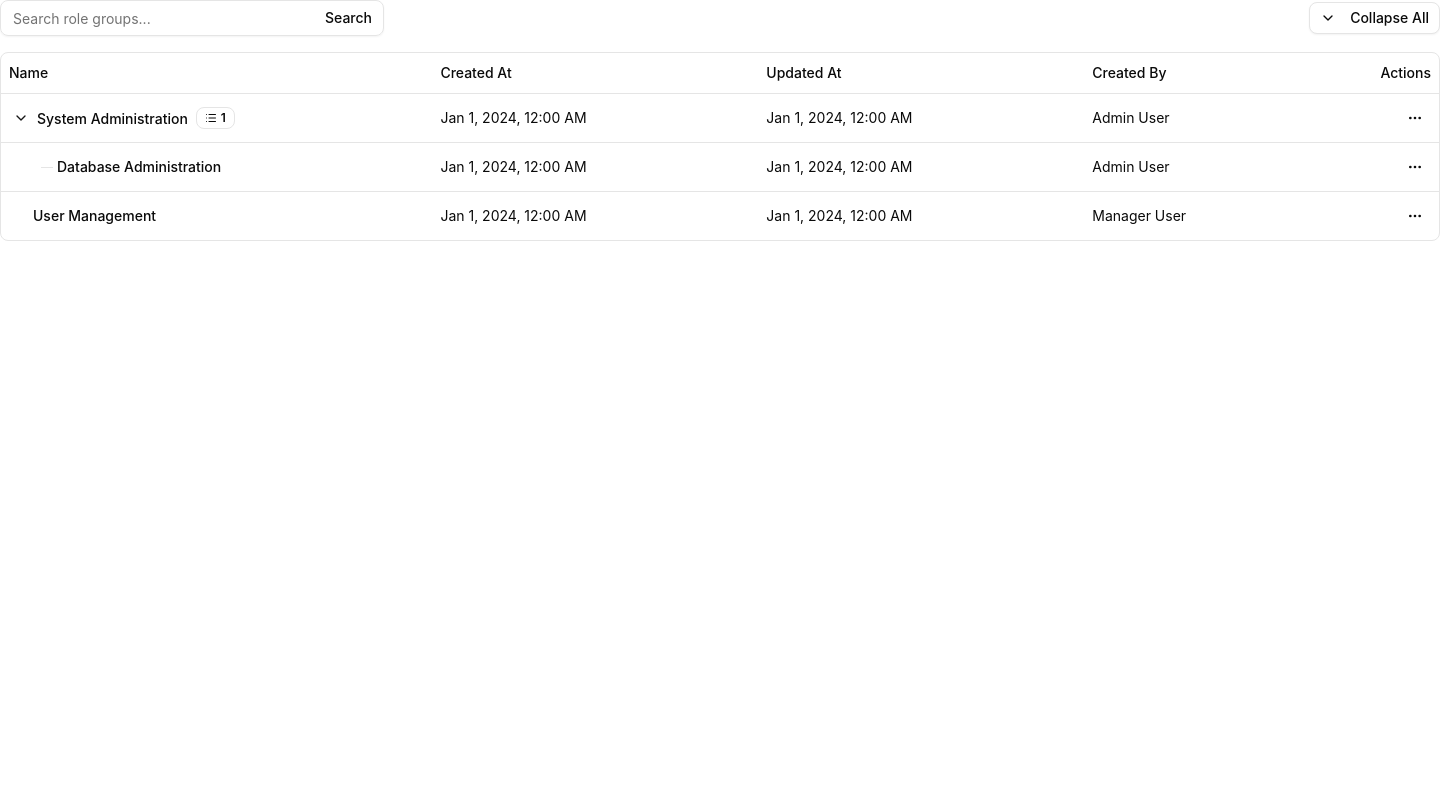
Test: RoleGroupList Component › Delete Functionality › opens delete confirmation dialog when delete action is clicked
The image size is (1440, 810).
Click the 1st button named "Open menu": (1415, 118) [1399,102,1431,134]
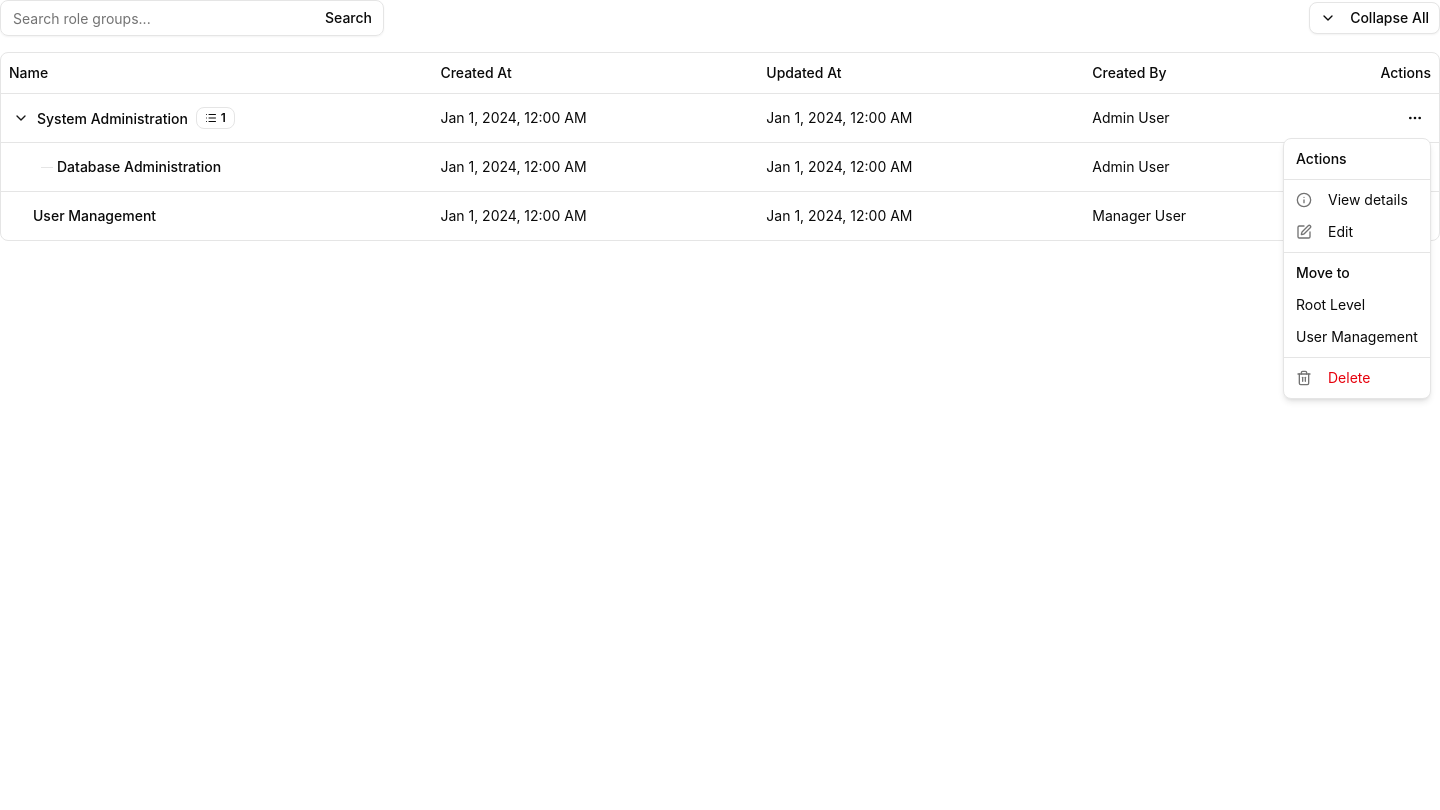
Note: Click delete option
Click the menu item "Delete": (1333, 378) [1296,369,1370,386]
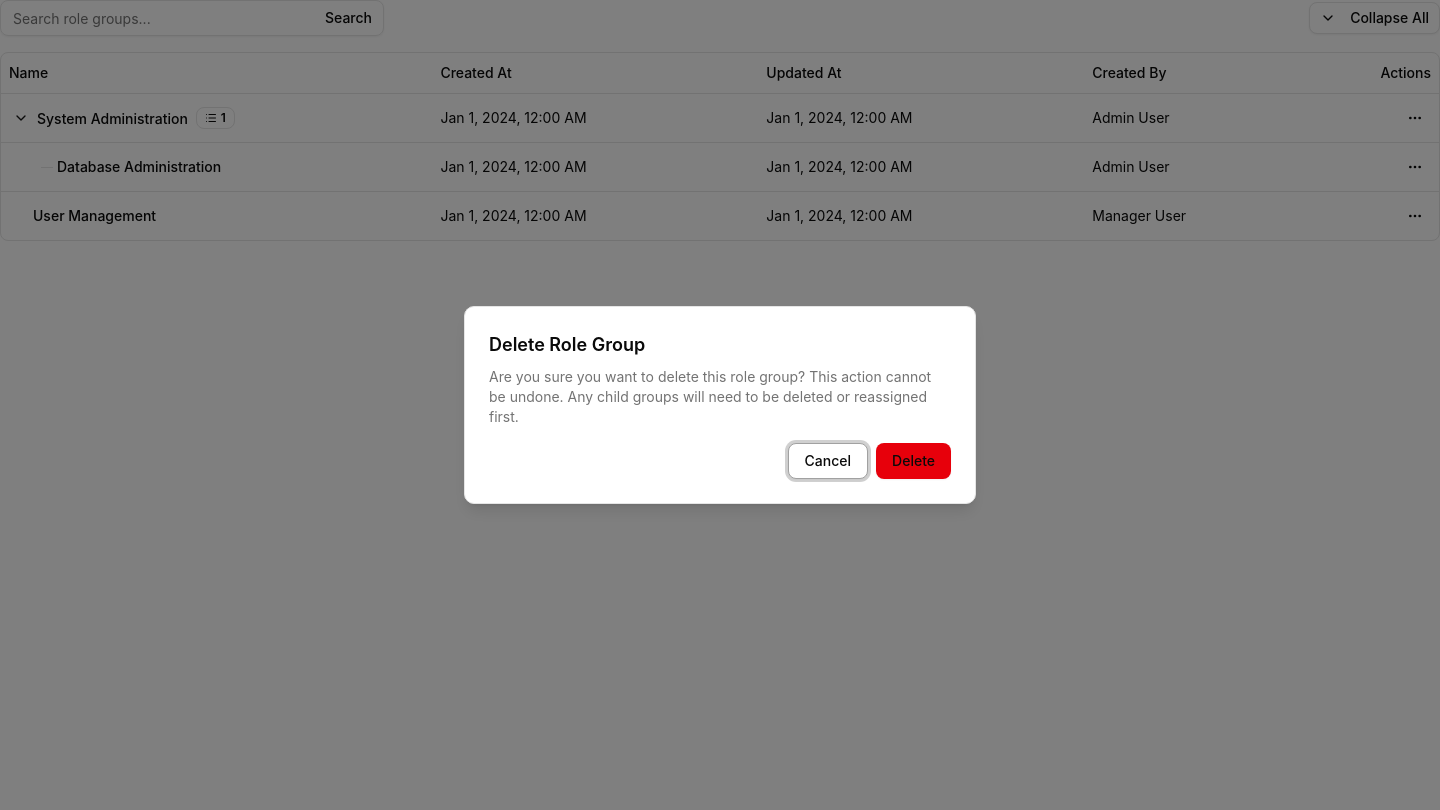
Check: the heading "Delete Role Group" is shown, box [489,334,645,355]
Check: the text "Are you sure you want to delete this role group" is shown, box [489,368,931,425]
